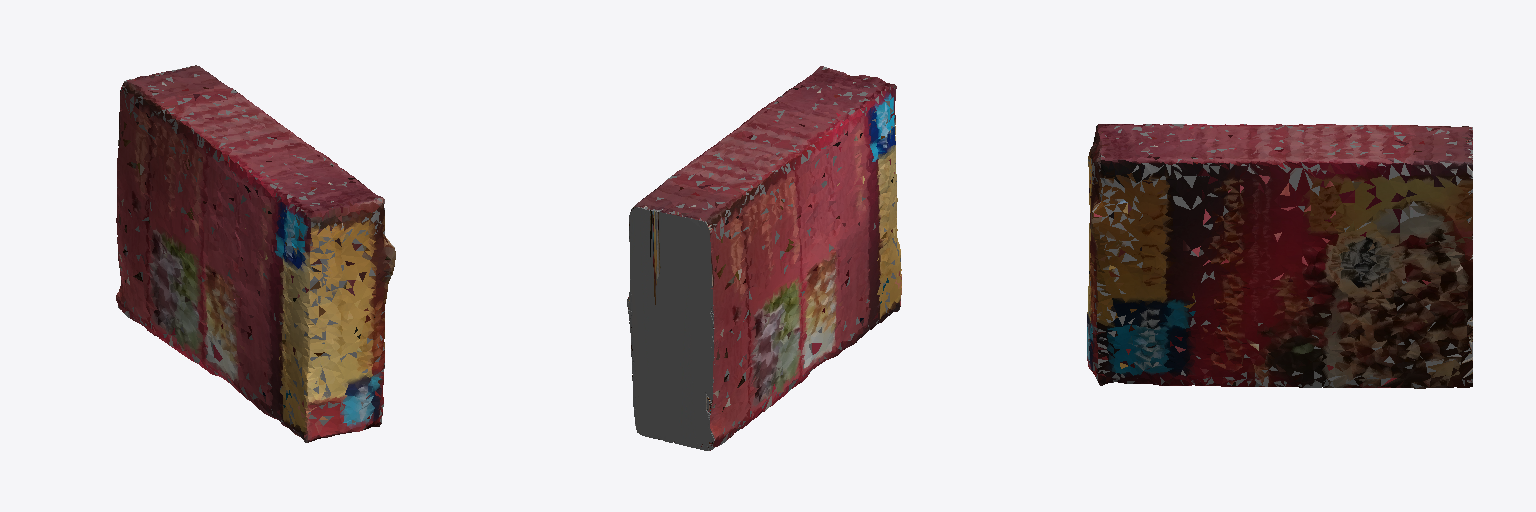
The picture shows the model from 3 angles: view 1: azimuth 30°, elevation 25°; view 2: azimuth 150°, elevation 25°; view 3: azimuth 270°, elevation 25°; orthographic projection.
Bounding box in the file's own units: 0.0618 × 0.1494 × 0.2245.
Materials: 1 (1 with a texture image).